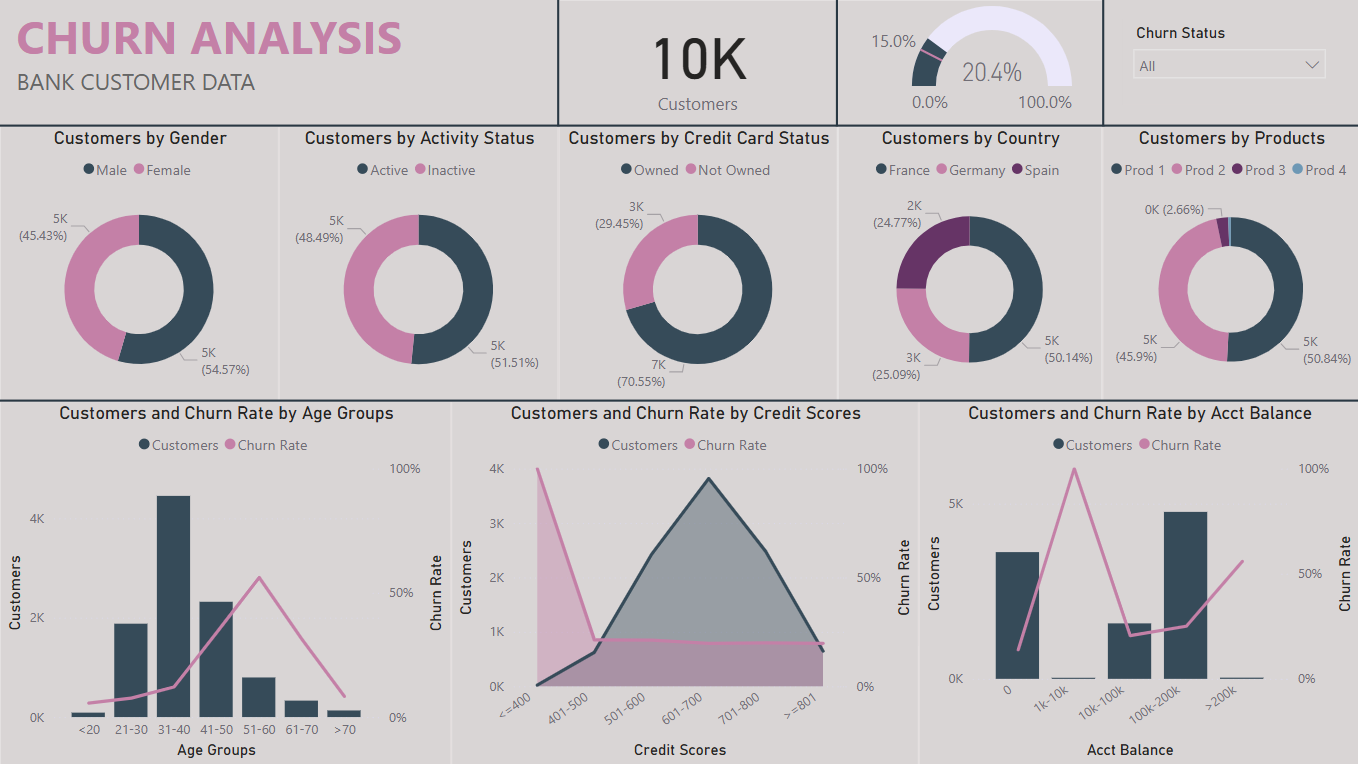

The page's visual inventory and layout, read from the dashboard file:
{"tool":"powerbi","page":{"name":"Churn Analysis","canvas":[1280,720],"ordinal":0},"visuals":[{"type":"card","fields":{"Values":["Customer Data.Customers"]},"box":[525.9,0,262.4,118.8],"z":0},{"type":"donutChart","fields":{"Category":["Customer Data.Gender"],"Y":["Customer Data.Customers"]},"box":[0,118.8,262.4,258.8],"z":1000},{"type":"donutChart","fields":{"Y":["Customer Data.Customers"],"Category":["Customer Data.Activity Status"]},"box":[262.4,118.8,263.5,258.8],"z":2000},{"type":"donutChart","fields":{"Y":["Customer Data.Customers"],"Category":["Customer Data.Credit Card Status"]},"box":[525.9,118.8,262.4,258.8],"z":3000},{"type":"donutChart","fields":{"Y":["Customer Data.Customers"],"Category":["Customer Data.Country"]},"box":[788.2,118.8,249.4,258.8],"z":4000},{"type":"donutChart","fields":{"Y":["Customer Data.Customers"],"Category":["Customer Data.Products"]},"box":[1037.6,118.8,242.4,258.8],"z":5000},{"type":"lineStackedColumnComboChart","fields":{"Category":["Age Groups.Age Groups"],"Y":["Customer Data.Customers"],"Y2":["Customer Data.Churn Rate"]},"box":[0,377.6,424.7,342.4],"z":6000},{"type":"areaChart","fields":{"Category":["Credit Scores Groups.Credit Scores"],"Y":["Customer Data.Customers"],"Y2":["Customer Data.Churn Rate"]},"box":[424.7,377.6,440,342.4],"z":7000},{"type":"lineStackedColumnComboChart","fields":{"Y":["Customer Data.Customers"],"Y2":["Customer Data.Churn Rate"],"Category":["Acct Balance Groups.Acct Balance"]},"box":[864.7,377.6,415.3,342.4],"z":8000},{"type":"slicer","fields":{"Values":["Customer Data.Churn Status"]},"box":[1056.5,17.6,201.2,81.2],"z":9000},{"type":"gauge","fields":{"Y":["Customer Data.Churn Rate"],"MinValue":["Min(Customer Data.Min Churn Rate)"],"MaxValue":["Max(Customer Data.Max Churn Rate)"],"TargetValue":["Max(Customer Data.Target Rate)"]},"box":[788.2,0,249.4,118.8],"z":10000},{"type":"textbox","box":[10.6,0,391.8,69.4],"z":11000},{"type":"textbox","box":[10.6,56.5,300,42.4],"z":12000},{"type":"shape","box":[451.8,0,147.1,118.8],"z":13000},{"type":"shape","box":[714.1,0,147.1,118.8],"z":14000},{"type":"shape","box":[964.7,0,147.1,118.8],"z":15000},{"type":"shape","box":[0,80,1280,76.5],"z":16000},{"type":"shape","box":[0,317.6,1280,118.8],"z":17000}]}

Visuals, with their boxes in screenshot pixels (x1, y1, x2, y2), scaled from the page's 1280x720 canvas onto the 1358x764 screenshot:
card - Customer Data.Customers: <region>558, 0, 836, 126</region>
donutChart - Customer Data.Gender x Customer Data.Customers: <region>0, 126, 278, 401</region>
donutChart - Customer Data.Customers x Customer Data.Activity Status: <region>278, 126, 558, 401</region>
donutChart - Customer Data.Customers x Customer Data.Credit Card Status: <region>558, 126, 836, 401</region>
donutChart - Customer Data.Customers x Customer Data.Country: <region>836, 126, 1101, 401</region>
donutChart - Customer Data.Customers x Customer Data.Products: <region>1101, 126, 1357, 401</region>
lineStackedColumnComboChart - Age Groups.Age Groups x Customer Data.Customers: <region>0, 401, 451, 763</region>
areaChart - Credit Scores Groups.Credit Scores x Customer Data.Customers: <region>451, 401, 917, 763</region>
lineStackedColumnComboChart - Customer Data.Customers x Customer Data.Churn Rate: <region>917, 401, 1357, 763</region>
slicer - Customer Data.Churn Status: <region>1121, 19, 1334, 105</region>
gauge - Customer Data.Churn Rate x Min(Customer Data.Min Churn Rate): <region>836, 0, 1101, 126</region>
textbox: <region>11, 0, 427, 74</region>
textbox: <region>11, 60, 330, 105</region>
shape: <region>479, 0, 635, 126</region>
shape: <region>758, 0, 914, 126</region>
shape: <region>1023, 0, 1180, 126</region>
shape: <region>0, 85, 1357, 166</region>
shape: <region>0, 337, 1357, 463</region>
